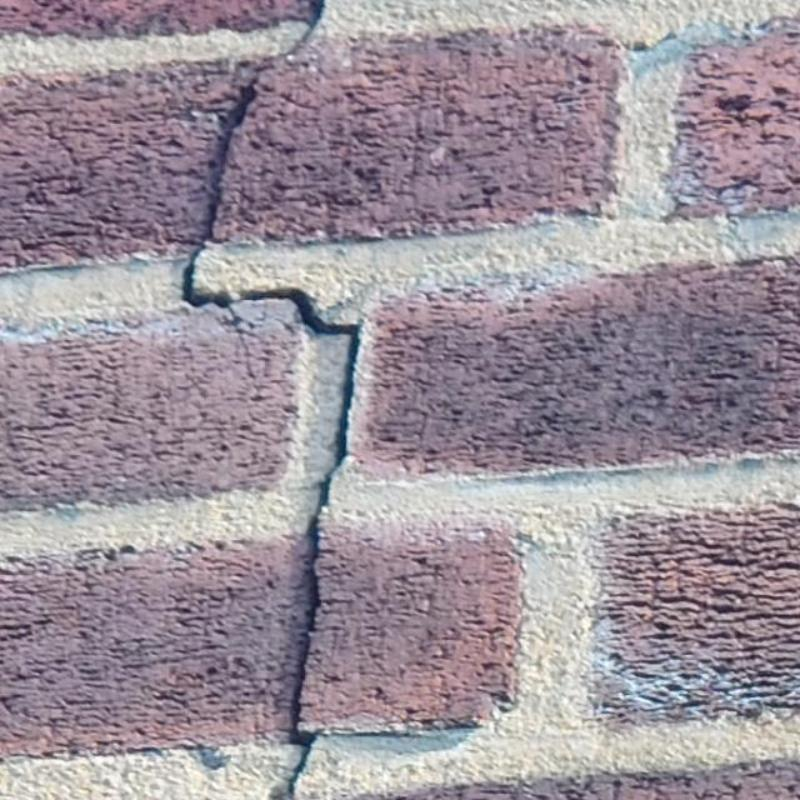pothole: (184, 248, 359, 512), (208, 0, 331, 238), (270, 512, 320, 799)
